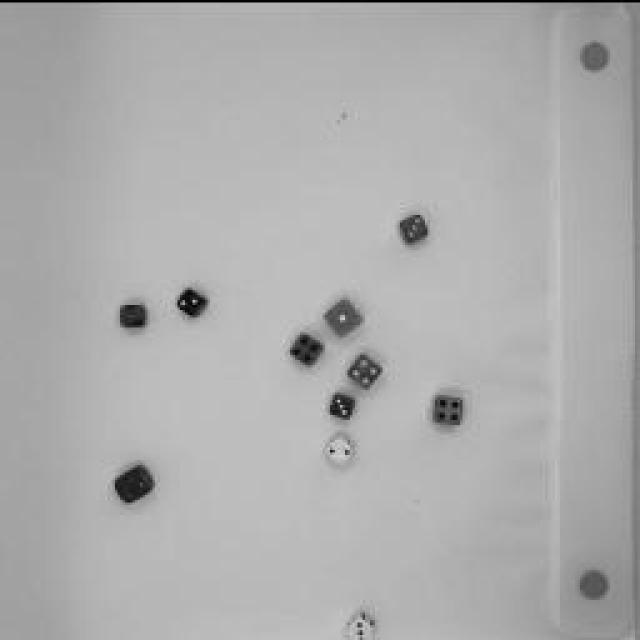dice_1: (321, 295, 369, 335)
dice_2: (112, 461, 160, 504), (325, 430, 357, 465), (178, 288, 208, 318)
dice_3: (398, 210, 434, 245), (345, 607, 380, 640), (328, 390, 362, 420)
dice_4: (431, 388, 469, 428), (285, 330, 325, 365), (347, 350, 385, 385), (118, 300, 148, 328)
